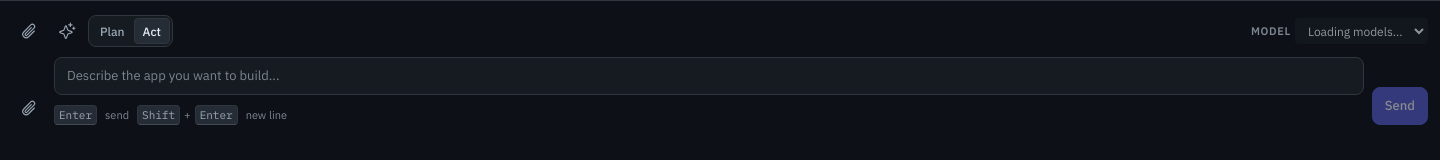
Test: composer toolbar › inserts a path reference at the caret
The image size is (1440, 160).
Type "Look at " into the text box at (709, 76), box [54,57,1364,95]
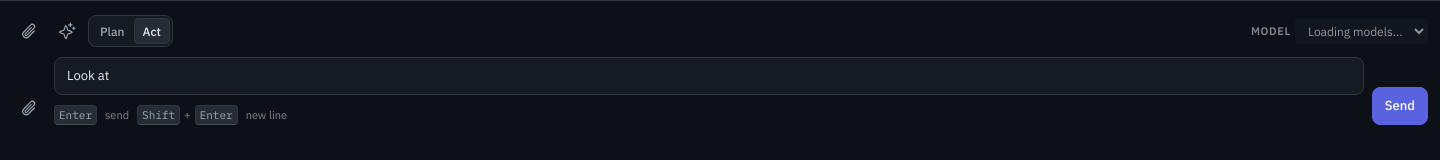
Click the button named "Reference a file" at (29, 31), box [12,14,46,48]
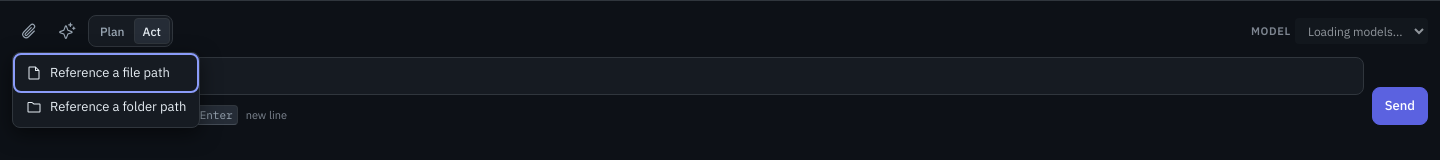
Click the menu item "Reference a file path" at (106, 73), box [17,57,195,89]
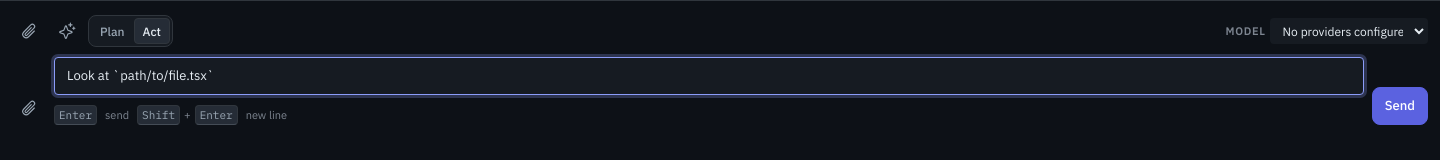
Check: the text box holds "Look at `path/to/file.tsx`", box [54,57,1364,95]
